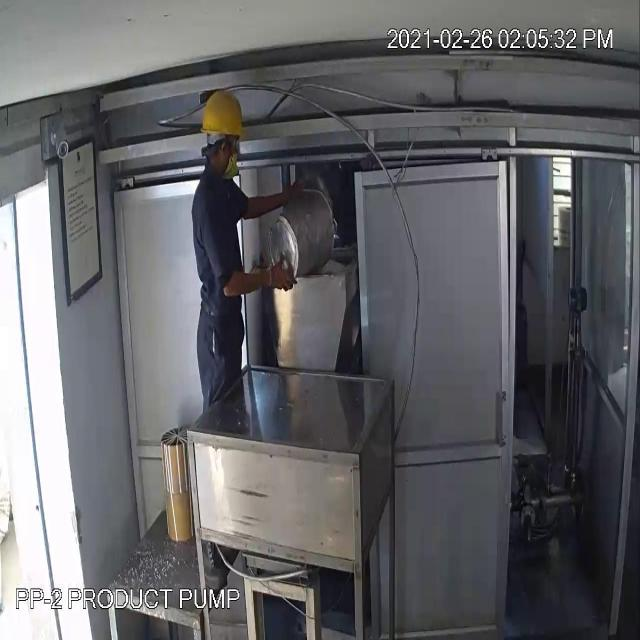helmet: (197, 78, 253, 156)
